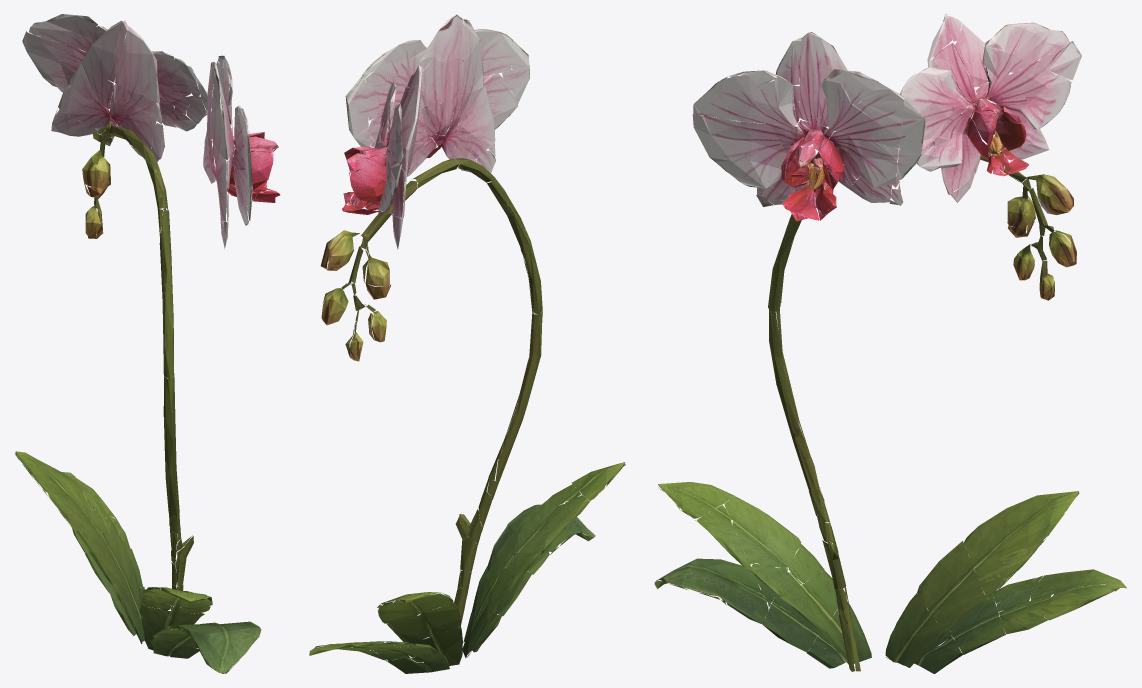
Rendered from flor_12_orquidea.glb.
3 views of the same model, side by side, from view 1: azimuth 30°, elevation 25°; view 2: azimuth 150°, elevation 25°; view 3: azimuth 270°, elevation 25° (orthographic). The views are drawn at different scales.
Parts seen in each view (by area): view 1: tripo_node_5f0dc9ce-5d5c-48d2-9f81-a3460df74a2d; view 2: tripo_node_5f0dc9ce-5d5c-48d2-9f81-a3460df74a2d; view 3: tripo_node_5f0dc9ce-5d5c-48d2-9f81-a3460df74a2d.
Boxes of the visible parts, x1=… form: tripo_node_5f0dc9ce-5d5c-48d2-9f81-a3460df74a2d: x1=15, y1=14, x2=280, y2=673; tripo_node_5f0dc9ce-5d5c-48d2-9f81-a3460df74a2d: x1=309, y1=14, x2=625, y2=673; tripo_node_5f0dc9ce-5d5c-48d2-9f81-a3460df74a2d: x1=654, y1=14, x2=1126, y2=673.
Bounding box in the file's own units: 0.2858 × 1 × 0.6594.
Materials: 1 (1 with a texture image).
